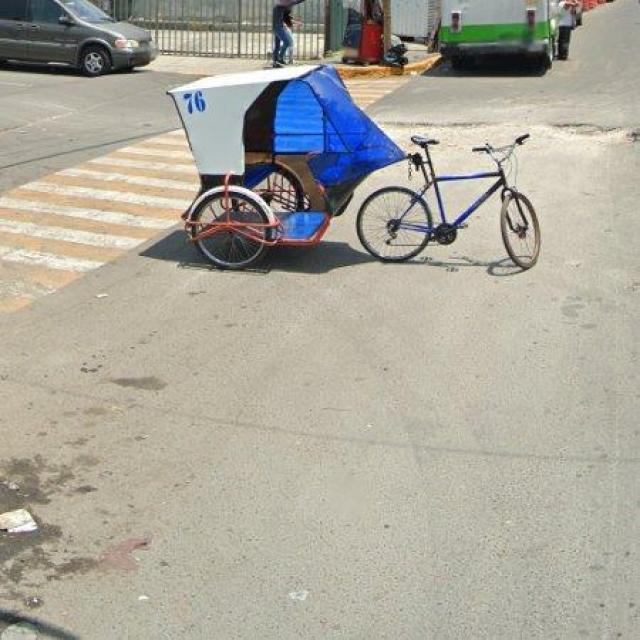bicycle: (358, 135, 543, 271)
